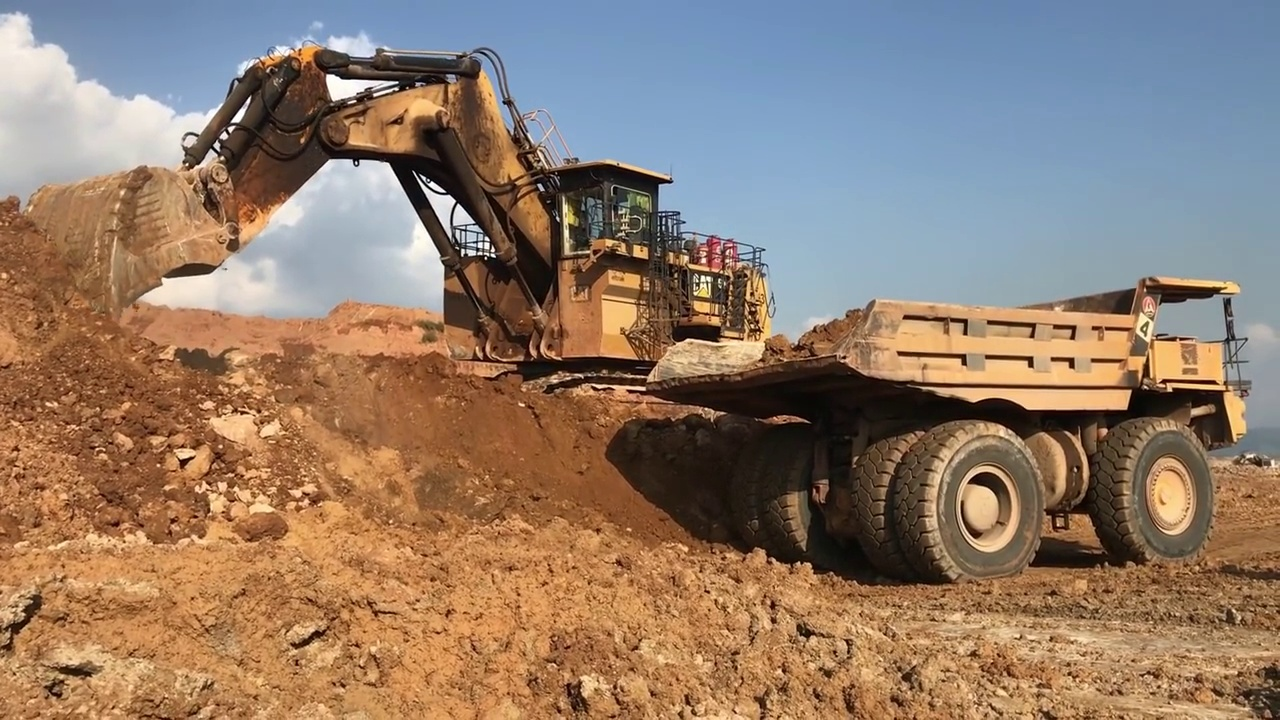dumper: (648, 279, 1251, 576)
excavator: (20, 42, 775, 415)
